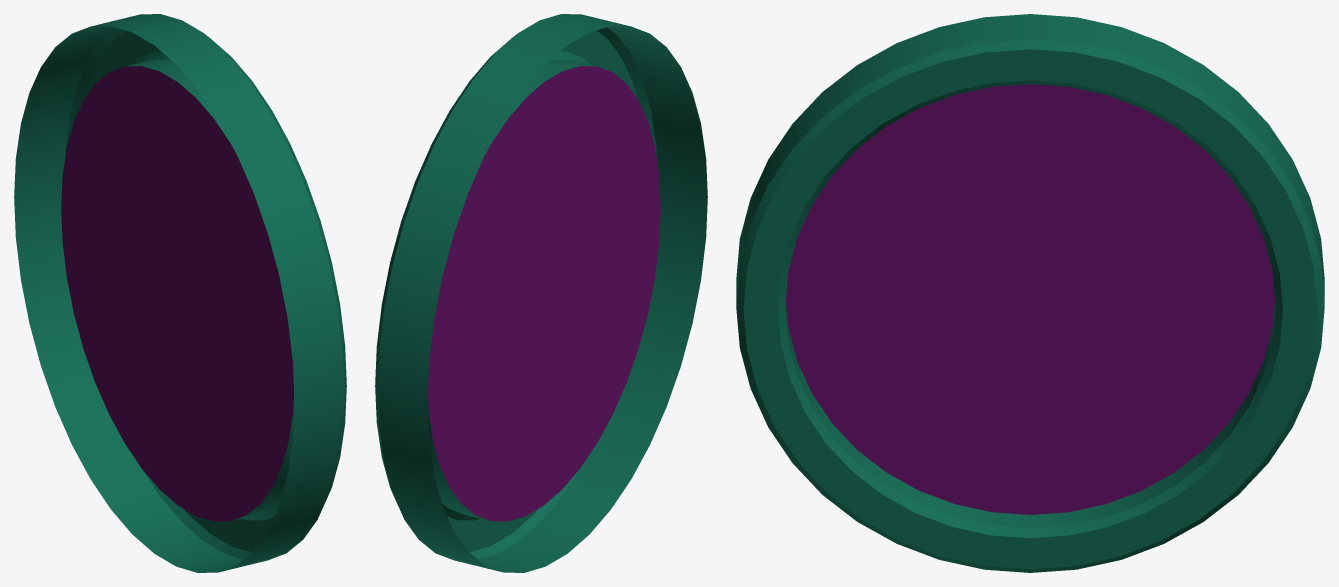
The model's file is Hublot_FBX.fbx.
3 renders of one model, left to right at view 1: azimuth 30°, elevation 25°; view 2: azimuth 150°, elevation 25°; view 3: azimuth 270°, elevation 25°, orthographic. The views are drawn at different scales.
Visible parts, largest first — view 1: pCylinder13; view 2: pCylinder13; view 3: pCylinder13.
Part boxes in pixels (box(x1,y1,x2,y2)): pCylinder13: box(14, 14, 346, 572); pCylinder13: box(375, 14, 707, 572); pCylinder13: box(736, 14, 1324, 572).
Size of the model in its own units: 6.17 by 53.65 by 53.65.
